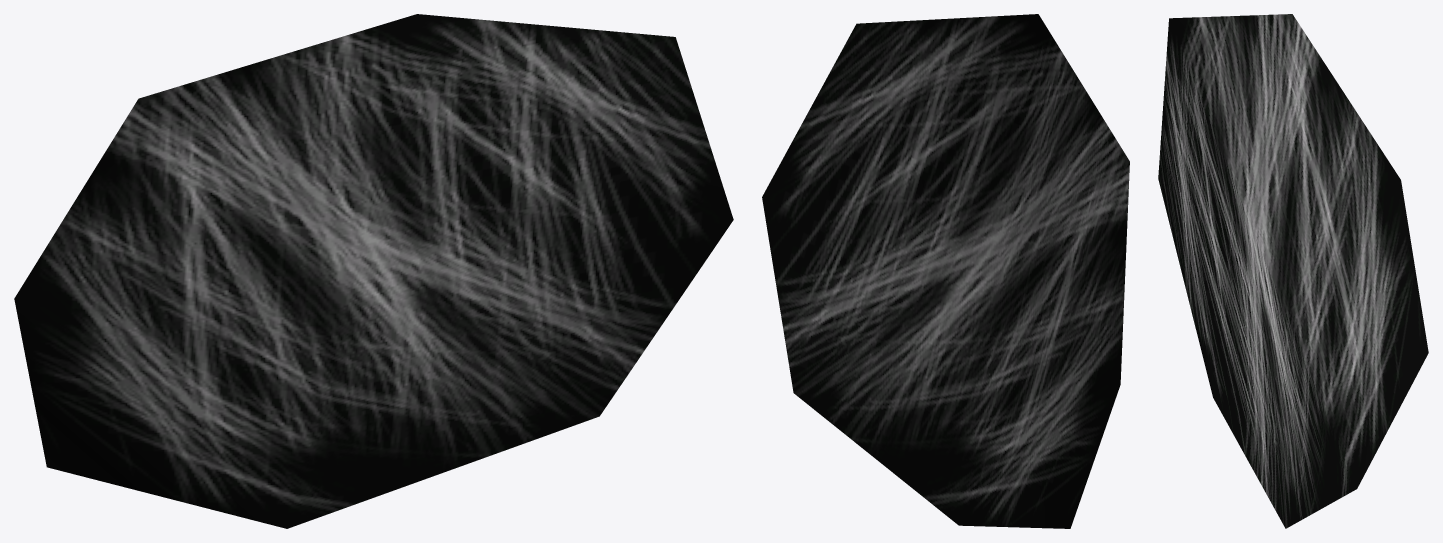
File: MIRKWOOD_SPIDERWEB_COVERS22.fbx
3 renders of one model, left to right at view 1: azimuth 30°, elevation 25°; view 2: azimuth 150°, elevation 25°; view 3: azimuth 270°, elevation 25°, orthographic. The views are drawn at different scales.
Parts seen in each view (by area): view 1: MIRKWOOD_SPIDERWEB_COVERS22; view 2: MIRKWOOD_SPIDERWEB_COVERS22; view 3: MIRKWOOD_SPIDERWEB_COVERS22.
Boxes of the visible parts, <box> form: MIRKWOOD_SPIDERWEB_COVERS22: <box>14,14,733,528</box>; MIRKWOOD_SPIDERWEB_COVERS22: <box>762,14,1129,528</box>; MIRKWOOD_SPIDERWEB_COVERS22: <box>1158,14,1428,528</box>.
Size of the model in its own units: 17641 by 16800 by 8667.
1 material, 1 textured.
